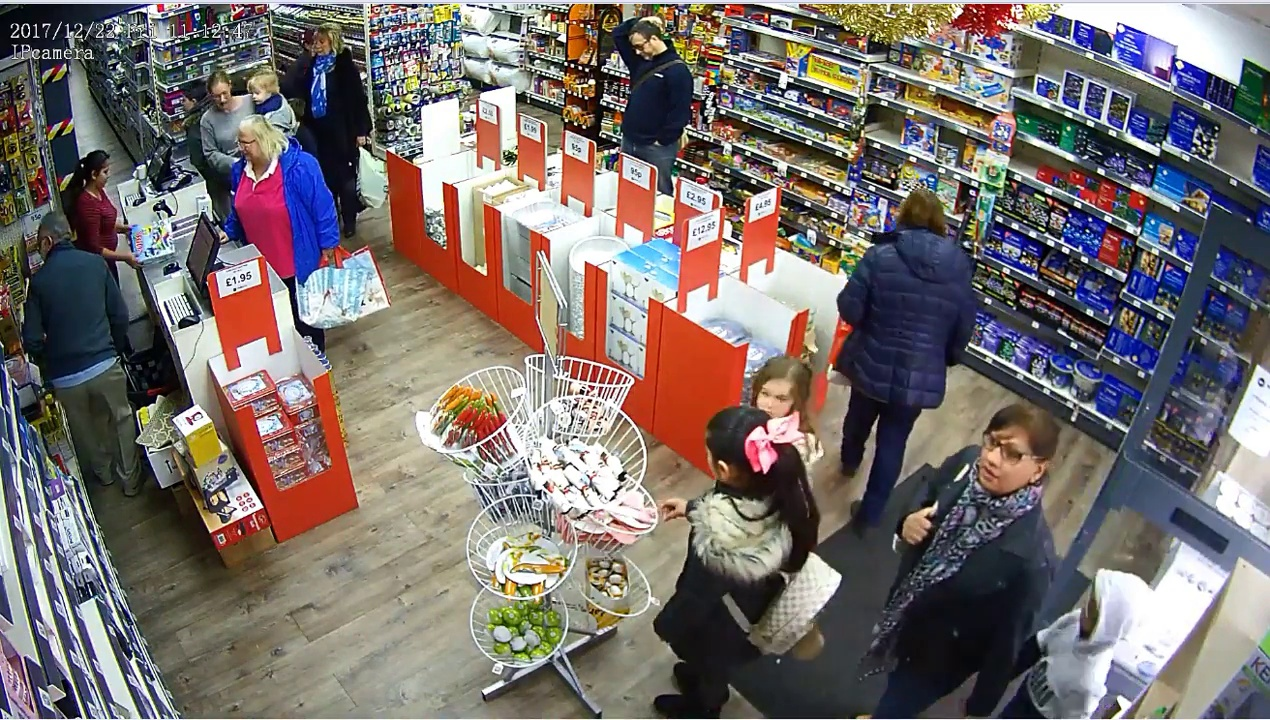face: (979, 429, 1043, 487), (755, 379, 790, 414), (630, 23, 657, 65), (241, 123, 262, 158), (210, 82, 230, 109), (248, 83, 270, 106), (95, 163, 116, 187), (312, 35, 331, 56)
